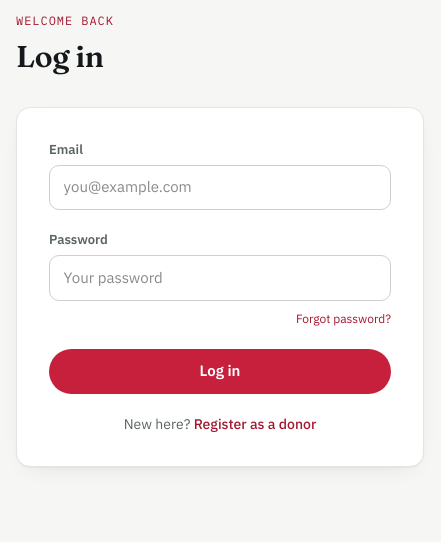
Test: Login › shows the server's error message, announced for screen readers, on failed login
Type "donor@example.com" into the field labelled "Email" at x=220, y=188, box [49, 165, 391, 210]
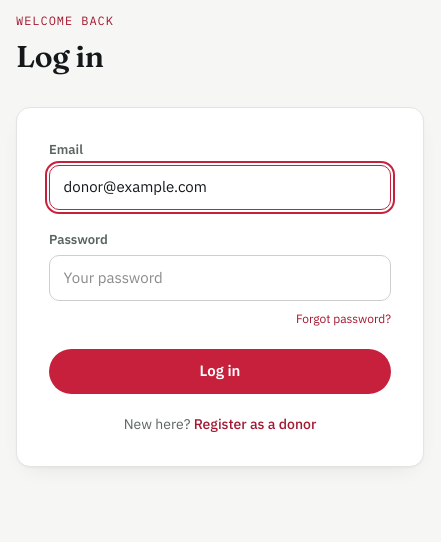
Type "wrong-password" into the password field labelled "Password" at x=220, y=278, box [49, 256, 391, 301]
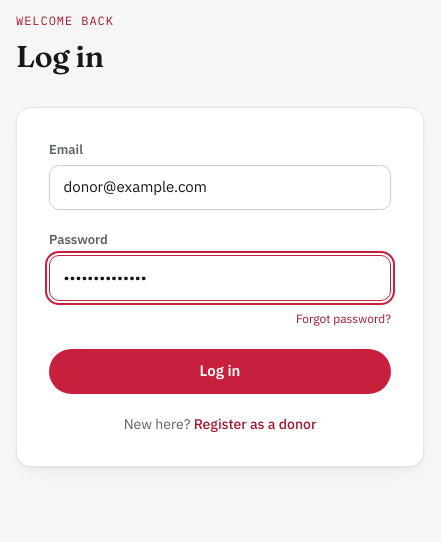
Click the button "Log in" at x=220, y=371, box [49, 349, 391, 394]
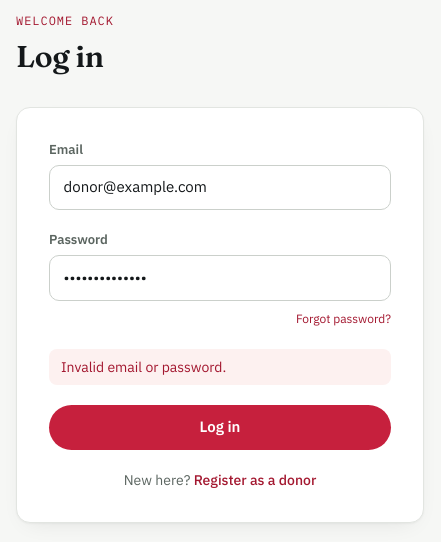
Expected: the message reads "Invalid email or password.", [61, 358, 226, 376]
